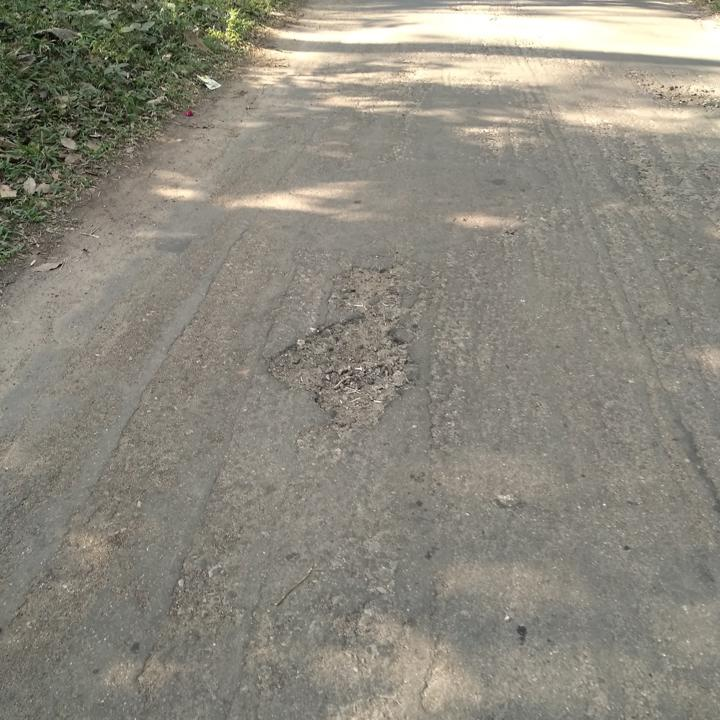pothole: (264, 264, 422, 435), (624, 68, 720, 116)
